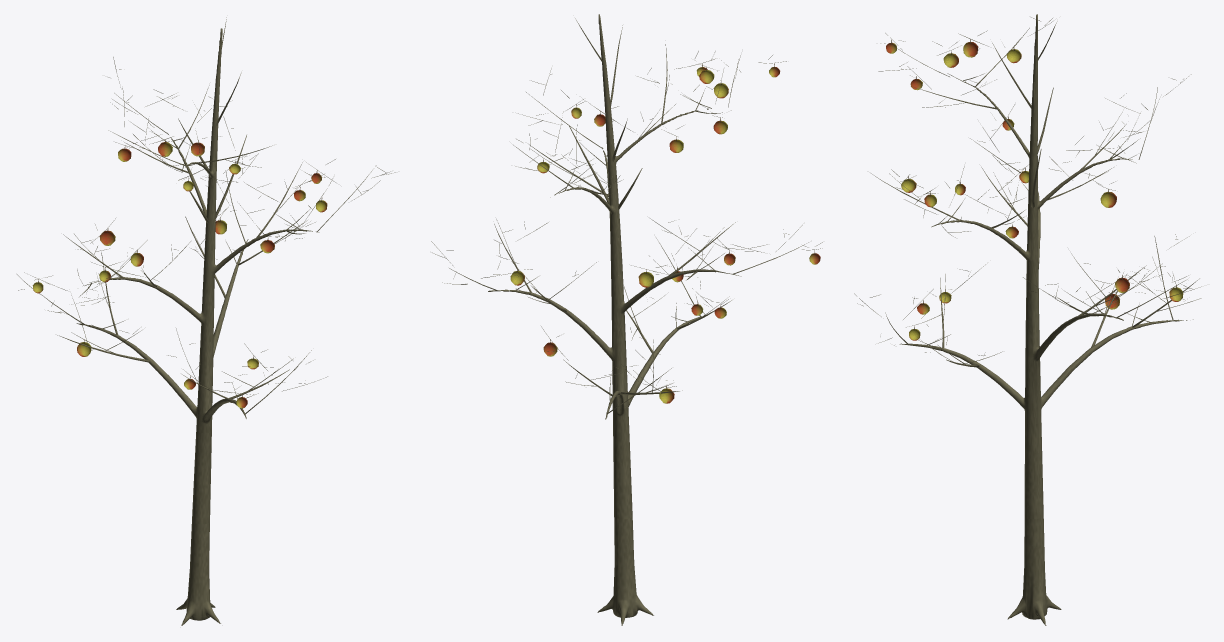
File: jablon_6.glb
The picture shows the model from 3 angles, left to right: view 1: azimuth 30°, elevation 25°; view 2: azimuth 150°, elevation 25°; view 3: azimuth 270°, elevation 25°; orthographic projection. The views are drawn at different scales.
Parts seen in each view (by area): view 1: 01_Young_trunk_and_branches.007, 02_Young_twigs.007, 05_Apples.007; view 2: 01_Young_trunk_and_branches.007, 02_Young_twigs.007, 05_Apples.007; view 3: 01_Young_trunk_and_branches.007, 02_Young_twigs.007, 05_Apples.007.
Boxes of the visible parts, bbox=[...] form: 01_Young_trunk_and_branches.007: bbox=[76, 28, 319, 625]; 02_Young_twigs.007: bbox=[17, 17, 395, 414]; 05_Apples.007: bbox=[32, 142, 327, 408]; 01_Young_trunk_and_branches.007: bbox=[488, 14, 741, 625]; 02_Young_twigs.007: bbox=[431, 18, 822, 413]; 05_Apples.007: bbox=[510, 66, 820, 403]; 01_Young_trunk_and_branches.007: bbox=[899, 14, 1193, 625]; 02_Young_twigs.007: bbox=[854, 17, 1201, 367]; 05_Apples.007: bbox=[886, 42, 1183, 340].
Size of what is drawn, in the model's own units: 1.74 by 2.92 by 1.53.
Materials: 3 (2 with a texture image).
